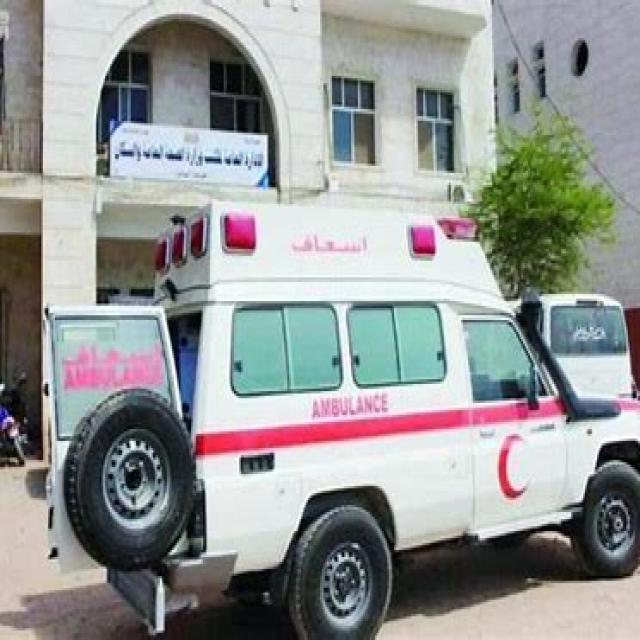ambulance: (49, 196, 638, 626)
